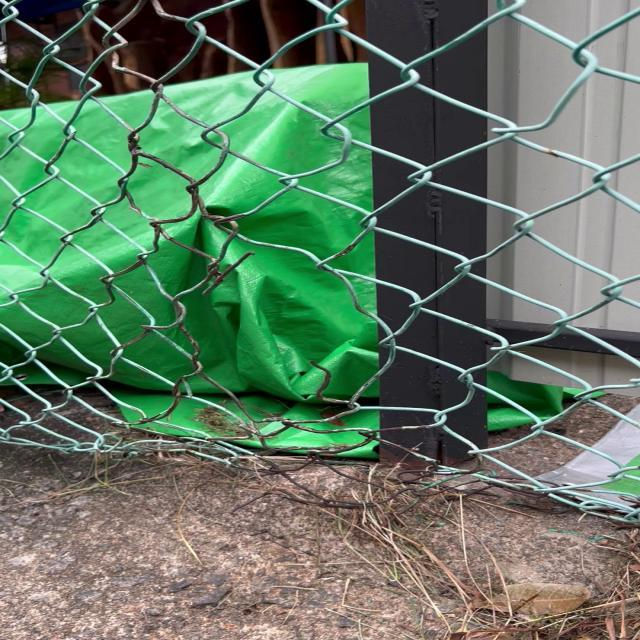fence line: (173, 235, 404, 433)
